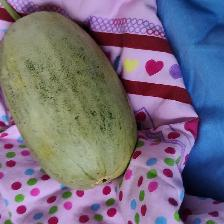gua: (6, 17, 123, 177)
